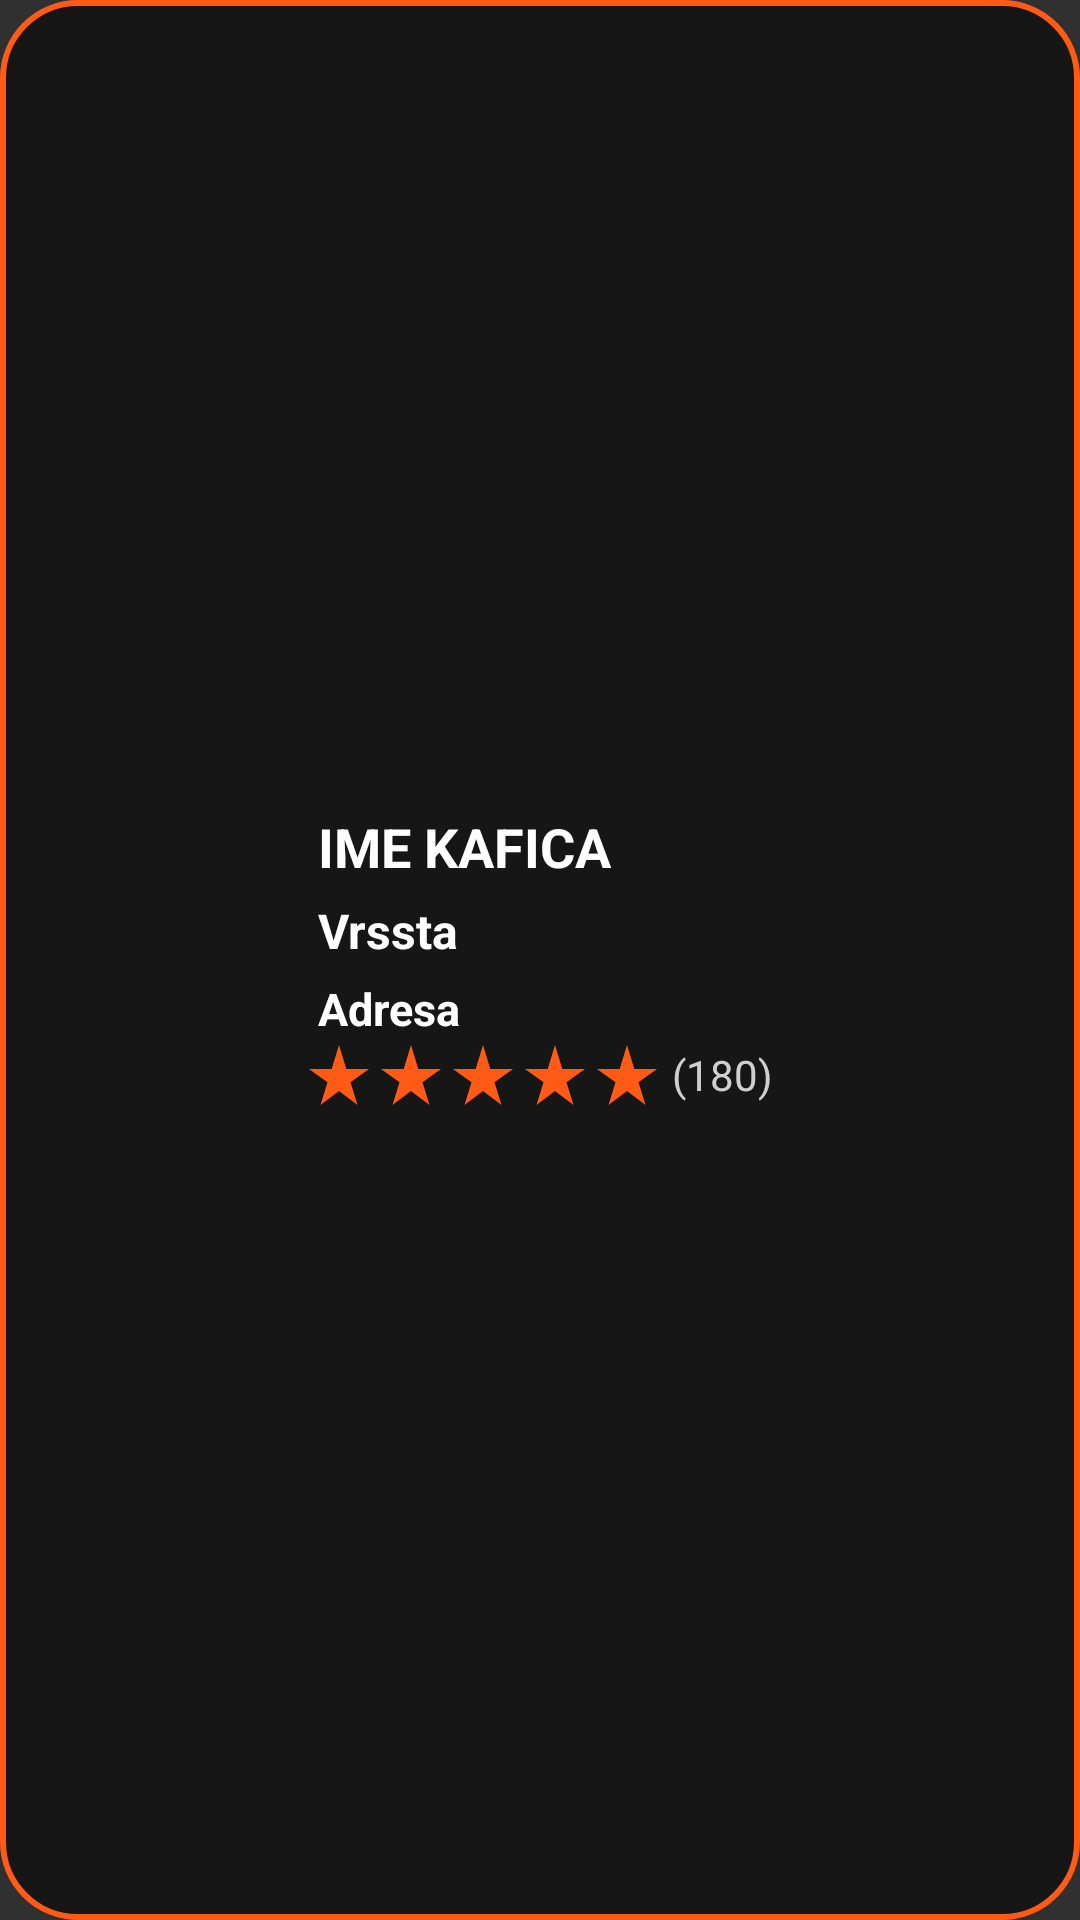

Point at icon controls on the screen. Image size 1080 x 1920, points as [x,y].
star rate: [339,1075], [411,1075], [483,1075], [555,1075], [627,1075]
